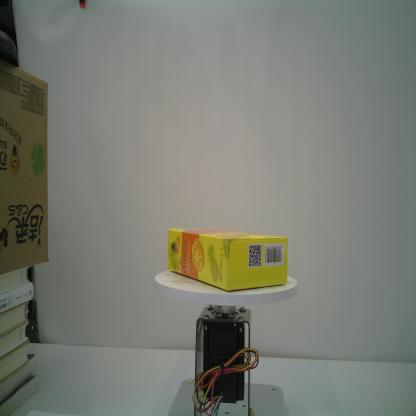Dessert: (165, 225, 291, 294)
